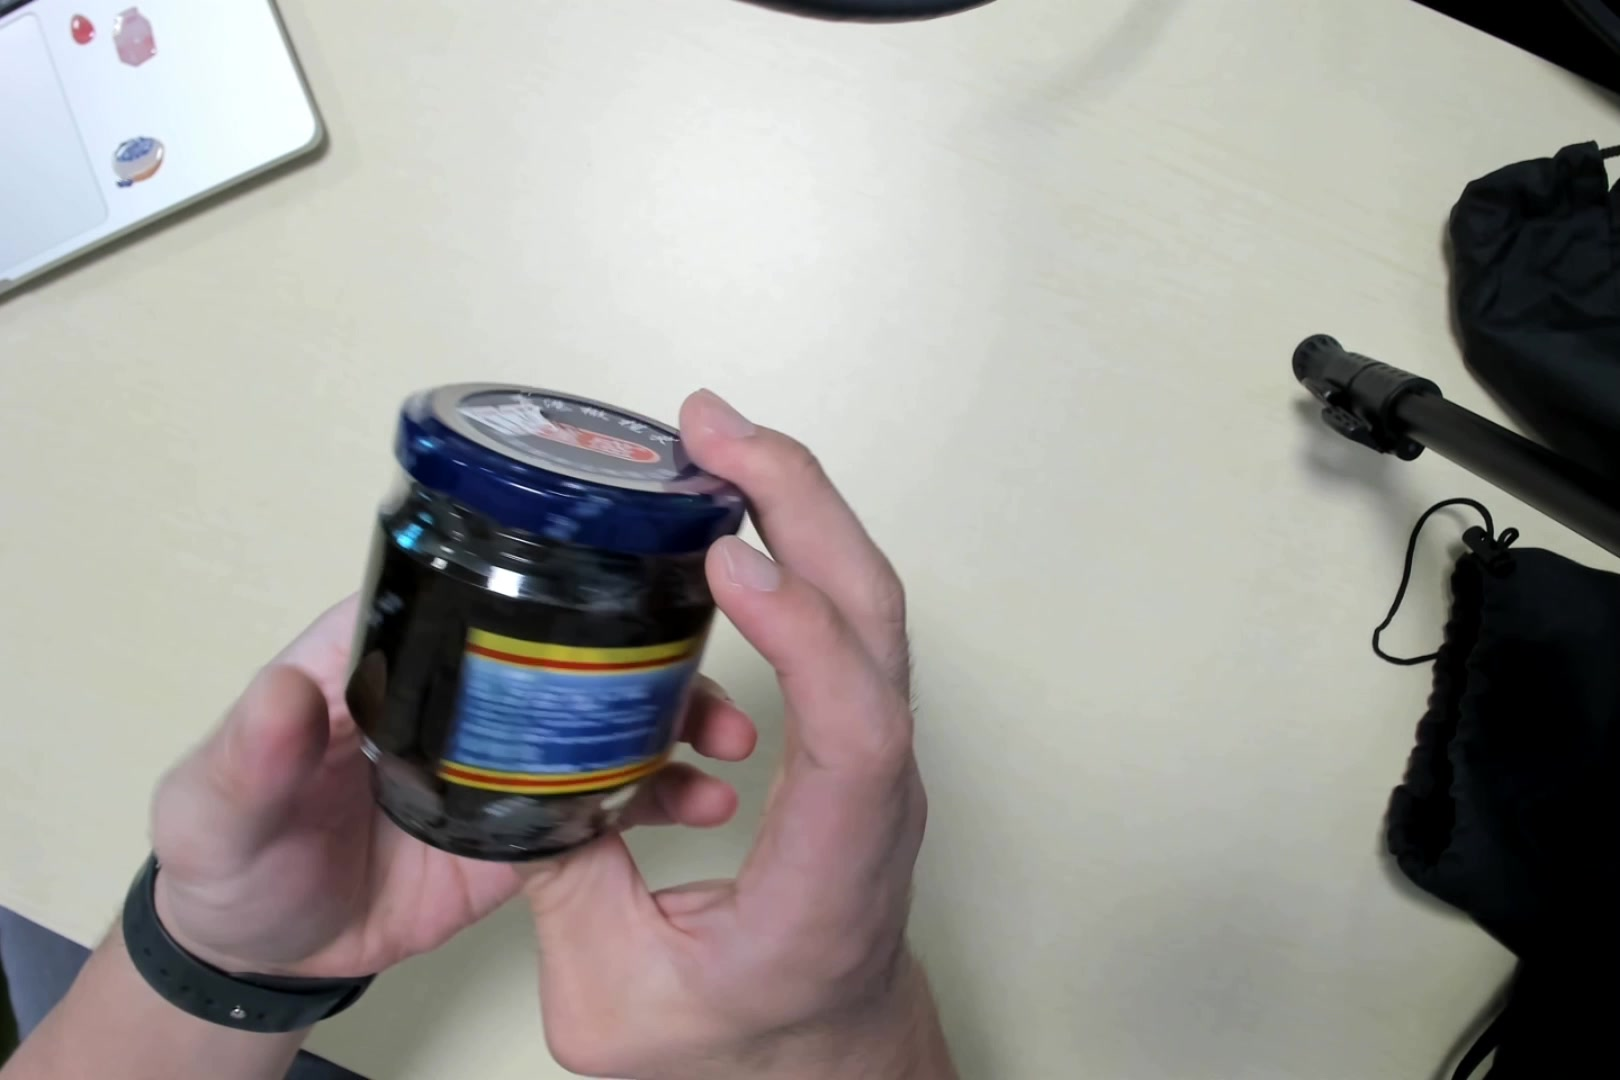OtherCannedVegetables_100-199g_Halal_NonHealthy: (344, 388, 755, 869)
